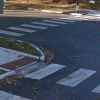crosswalk: (23, 62, 100, 92), (0, 19, 81, 36)
